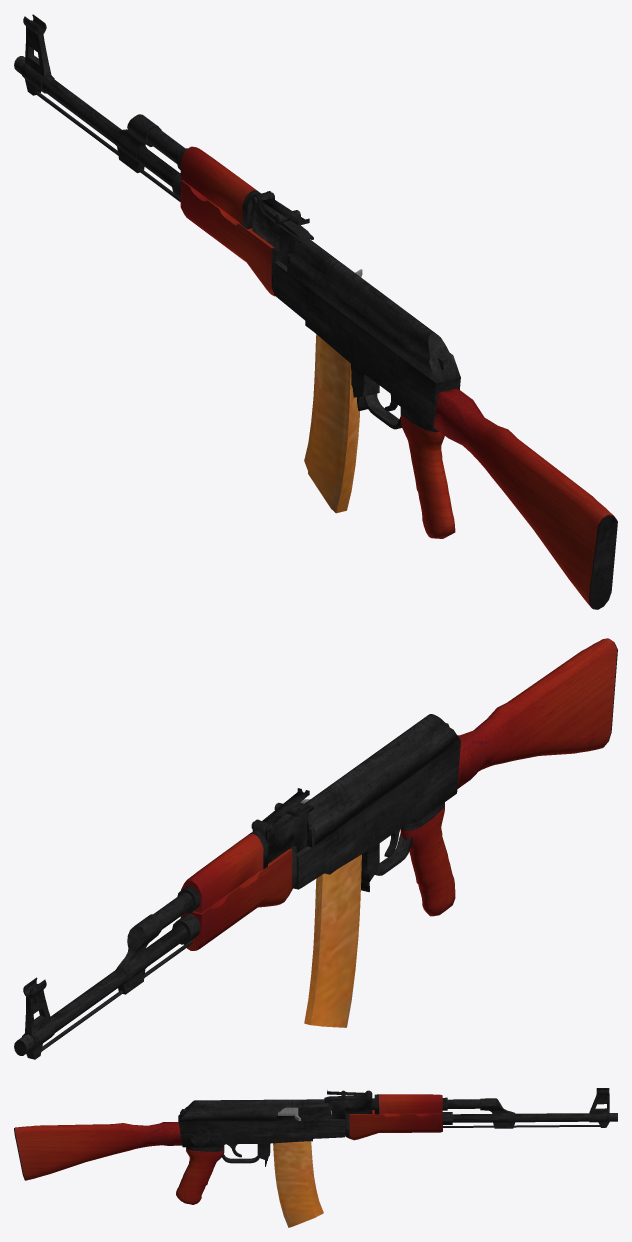
File: ak74_world.fbx
3 views of the same model, one above another, from view 1: azimuth 30°, elevation 25°; view 2: azimuth 150°, elevation 25°; view 3: azimuth 270°, elevation 25° (orthographic). The views are drawn at different scales.
Parts seen in each view (by area): view 1: ak74_stock, ak74_upperbody, ak74_lowerbody, ak74_magazine, ak74_grip, ak74_barrel, ak74_pistolgrip, ak74_stockmetal, ak74_sightblock, ak74_frontsight; view 2: ak74_stock, ak74_lowerbody, ak74_magazine, ak74_upperbody, ak74_grip, ak74_barrel, ak74_pistolgrip, ak74_sightblock, ak74_frontsight, ak74_triggerguard; view 3: ak74_stock, ak74_lowerbody, ak74_grip, ak74_magazine, ak74_upperbody, ak74_barrel, ak74_pistolgrip, ak74_sightblock, ak74_selector, ak74_frontsight, ak74_connectors, ak74_triggerguard.
Boxes of the visible parts, bbox=[...] form: ak74_stock: bbox=[434, 388, 617, 607]; ak74_upperbody: bbox=[287, 238, 460, 383]; ak74_lowerbody: bbox=[274, 261, 460, 432]; ak74_magazine: bbox=[304, 334, 359, 513]; ak74_grip: bbox=[180, 146, 275, 296]; ak74_barrel: bbox=[14, 56, 187, 201]; ak74_pistolgrip: bbox=[400, 413, 455, 538]; ak74_stockmetal: bbox=[588, 515, 617, 609]; ak74_sightblock: bbox=[251, 191, 313, 266]; ak74_frontsight: bbox=[21, 14, 54, 93]; ak74_stock: bbox=[457, 638, 617, 788]; ak74_lowerbody: bbox=[293, 741, 460, 889]; ak74_magazine: bbox=[304, 854, 361, 1027]; ak74_upperbody: bbox=[305, 714, 460, 847]; ak74_grip: bbox=[180, 833, 292, 950]; ak74_barrel: bbox=[14, 886, 200, 1059]; ak74_pistolgrip: bbox=[400, 804, 455, 916]; ak74_sightblock: bbox=[251, 802, 313, 863]; ak74_frontsight: bbox=[22, 977, 55, 1051]; ak74_triggerguard: bbox=[375, 833, 412, 875]; ak74_stock: bbox=[15, 1122, 182, 1180]; ak74_lowerbody: bbox=[178, 1115, 344, 1151]; ak74_grip: bbox=[349, 1094, 442, 1140]; ak74_magazine: bbox=[273, 1141, 323, 1227]; ak74_upperbody: bbox=[178, 1099, 331, 1121]; ak74_barrel: bbox=[442, 1097, 617, 1128]; ak74_pistolgrip: bbox=[176, 1148, 224, 1204]; ak74_sightblock: bbox=[324, 1090, 372, 1119]; ak74_selector: bbox=[211, 1124, 273, 1136]; ak74_frontsight: bbox=[589, 1088, 609, 1122]; ak74_connectors: bbox=[345, 1094, 379, 1138]; ak74_triggerguard: bbox=[221, 1154, 259, 1163].
Bounding box in the file's own units: 2.24 × 12.85 × 51.14.
4 materials, 4 textured.
